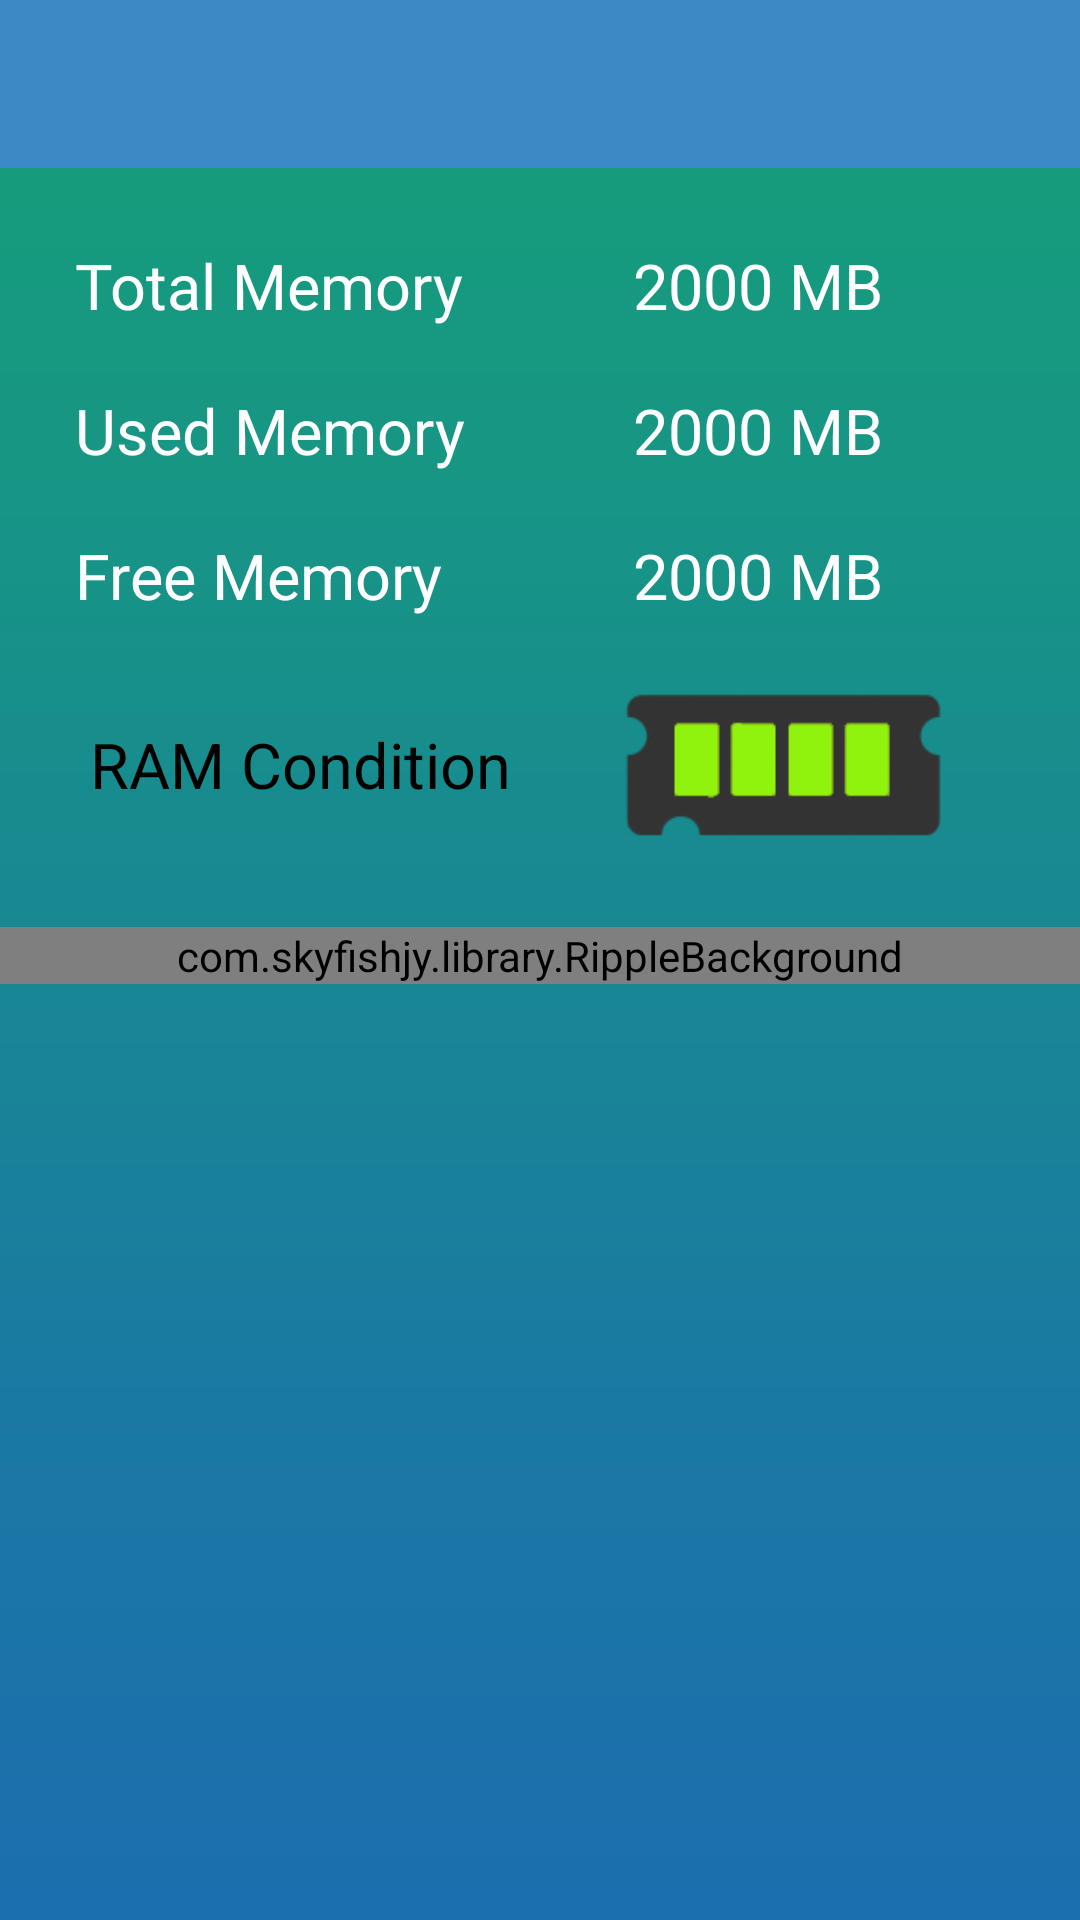

Screen size 1080*1920. Icon name, then its center in pixels as (x,y):
greenstate: (783,765)
